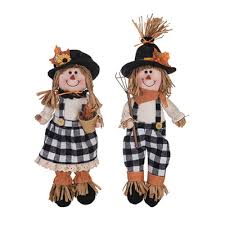person-like: (115, 14, 190, 209), (32, 44, 105, 207)
